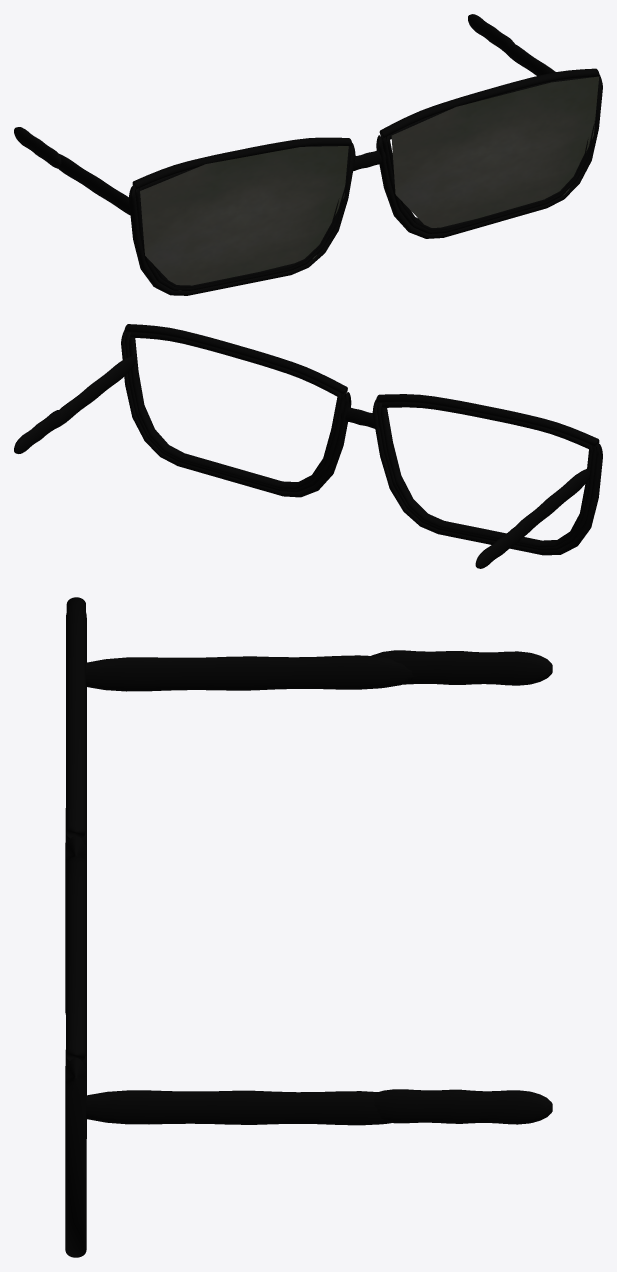
3 views of the same model, one above another, from view 1: azimuth 30°, elevation 25°; view 2: azimuth 150°, elevation 25°; view 3: azimuth 270°, elevation 25° (orthographic). The views are drawn at different scales.
Parts seen in each view (by area): view 1: Plane, Plane.001, Cylinder.029, Cylinder.020, Cylinder.021, Cylinder.028, Cylinder.027, Cylinder.022, Mball.019, Cylinder.024, Mball.017, Cylinder.025 (+4 smaller); view 2: Cylinder.024, Cylinder.025, Cylinder.029, Cylinder.020, Cylinder.021, Cylinder.028, Cylinder.022, Cylinder.027, Mball.015, Mball.019, Cylinder.026, Cylinder.023 (+3 smaller); view 3: Mball.019, Mball.015, Mball.016, Mball.017, Cylinder.028, Cylinder.020, Cylinder.021.
Part boxes in pixels (x1,y1,x2,y2): Plane: (140,146,348,290); Plane.001: (391,76,598,227); Cylinder.029: (129,143,355,295); Cylinder.020: (376,74,602,238); Cylinder.021: (379,68,599,138); Cylinder.028: (132,137,351,189); Cylinder.027: (135,146,351,290); Cylinder.022: (381,76,598,233); Mball.019: (58,154,130,215); Cylinder.024: (386,135,588,230); Mball.017: (14,127,61,168); Cylinder.025: (139,187,339,287); Cylinder.024: (128,336,341,488); Cylinder.025: (380,405,592,547); Cylinder.029: (372,399,602,555); Cylinder.020: (121,330,351,497); Cylinder.021: (124,324,347,394); Cylinder.028: (376,394,599,446); Cylinder.022: (125,332,346,492); Cylinder.027: (377,402,596,550); Mball.015: (55,356,135,428); Mball.019: (516,469,589,537); Cylinder.026: (382,402,589,448); Cylinder.023: (130,332,338,396); Mball.019: (86,655,414,691); Mball.015: (86,1090,390,1125); Mball.016: (374,1089,552,1124); Mball.017: (371,650,552,685); Cylinder.028: (66,597,85,838); Cylinder.020: (65,1050,86,1257); Cylinder.021: (66,856,85,1060).
Bounding box in the file's own units: 0.1852 × 0.0517 × 0.083.
2 materials, 2 textured.
